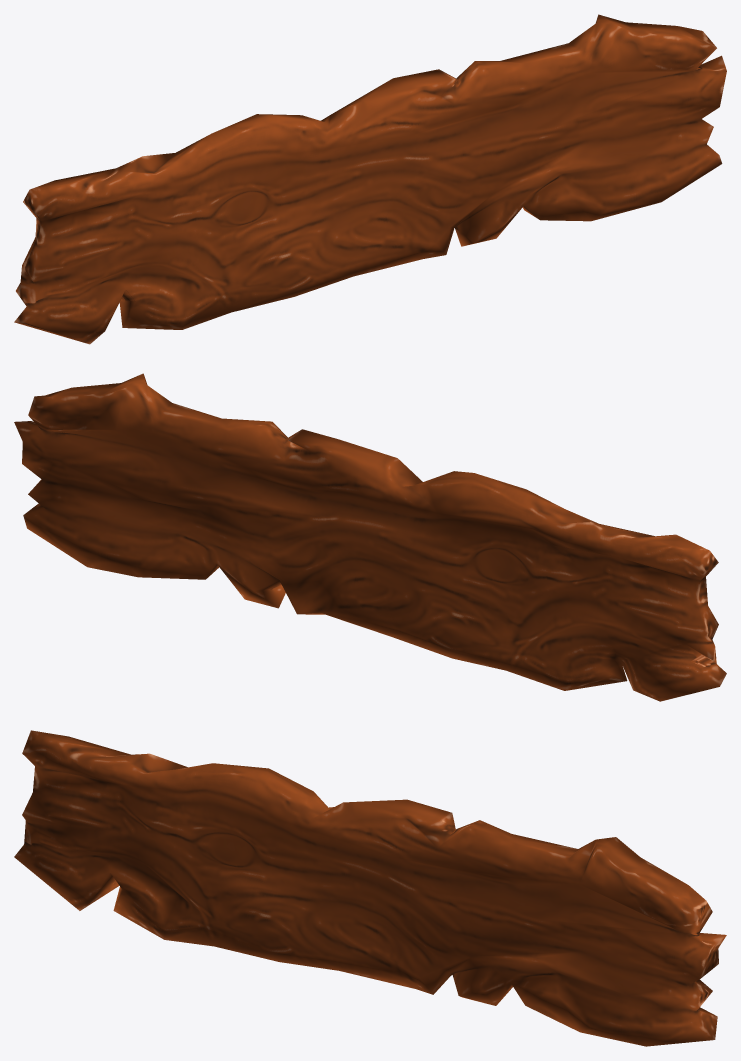
File: asset_3D_enviro_FanceWood_01.fbx
3 views of the same model, one above another, from view 1: azimuth 30°, elevation 25°; view 2: azimuth 150°, elevation 25°; view 3: azimuth 330°, elevation 25° (orthographic).
Parts seen in each view (by area): view 1: Wood_LP; view 2: Wood_LP; view 3: Wood_LP.
Part boxes in pixels (bbox=[...]): Wood_LP: bbox=[14, 14, 726, 344]; Wood_LP: bbox=[14, 373, 726, 701]; Wood_LP: bbox=[14, 730, 726, 1046].
Size of the model in its own units: 815 by 219 by 42.09.
Materials: 1 (1 with a texture image).
